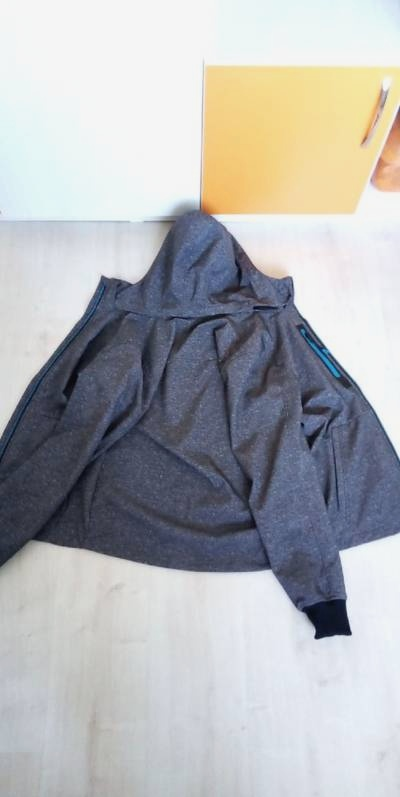Hoodie: (5, 177, 393, 667)
